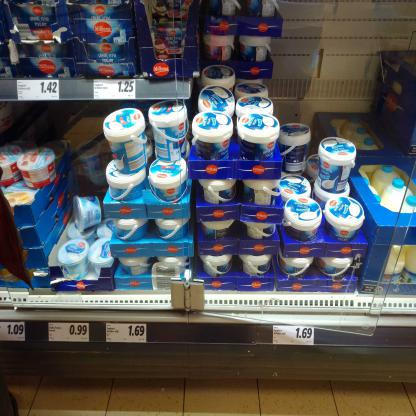prtg: (18, 80, 60, 101), (95, 80, 137, 100), (274, 326, 315, 346), (49, 324, 90, 343), (107, 324, 147, 343), (1, 323, 26, 342)
